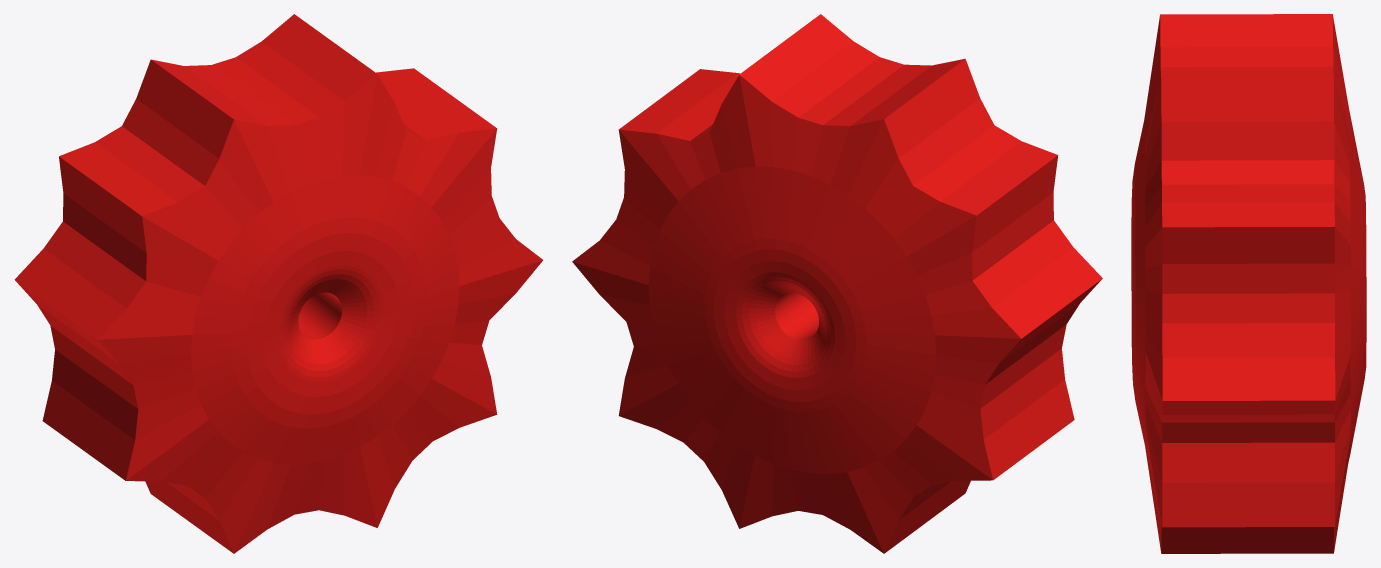
Rendered from spike.fbx.
3 renders of one model, left to right at view 1: azimuth 30°, elevation 25°; view 2: azimuth 150°, elevation 25°; view 3: azimuth 270°, elevation 25°, orthographic. The views are drawn at different scales.
Visible parts, largest first — view 1: Spike; view 2: Spike; view 3: Spike.
Boxes of the visible parts, box(x1,y1,x2,y2) form: Spike: box(14, 14, 543, 553); Spike: box(572, 14, 1102, 553); Spike: box(1131, 14, 1366, 553).
Bounding box in the file's own units: 368 × 356 × 159.
